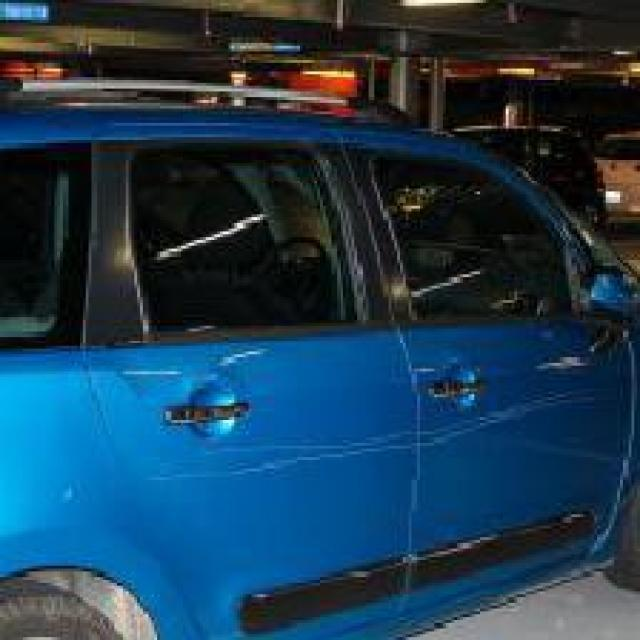damaged: (148, 392, 618, 472)
